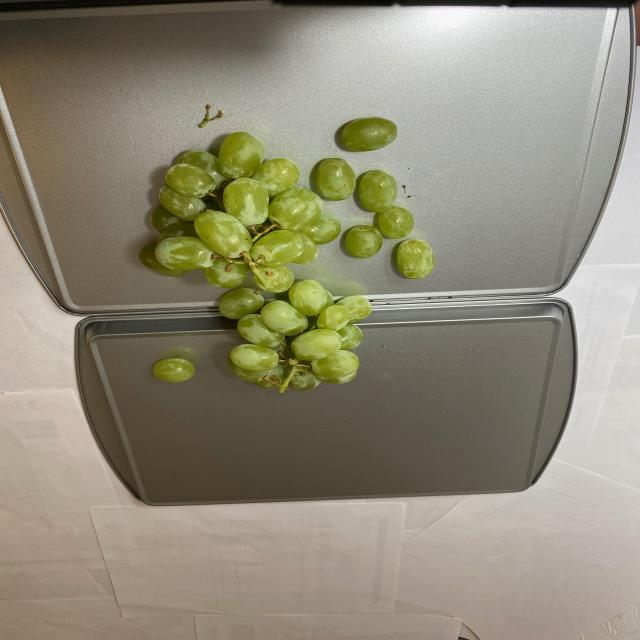grapes: (144, 114, 431, 390)
